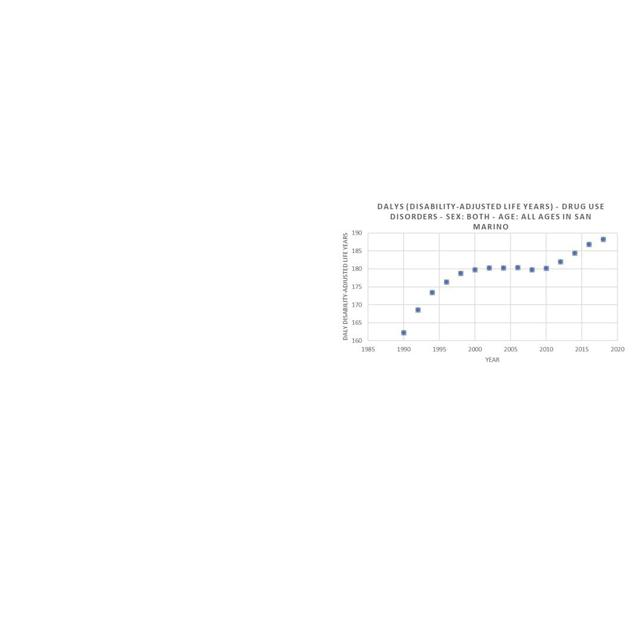Graph: (339, 196, 630, 368)
